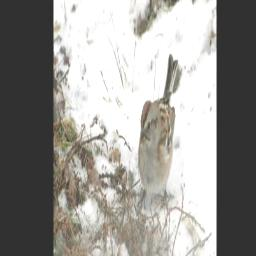Sparrow: (135, 50, 181, 213)
